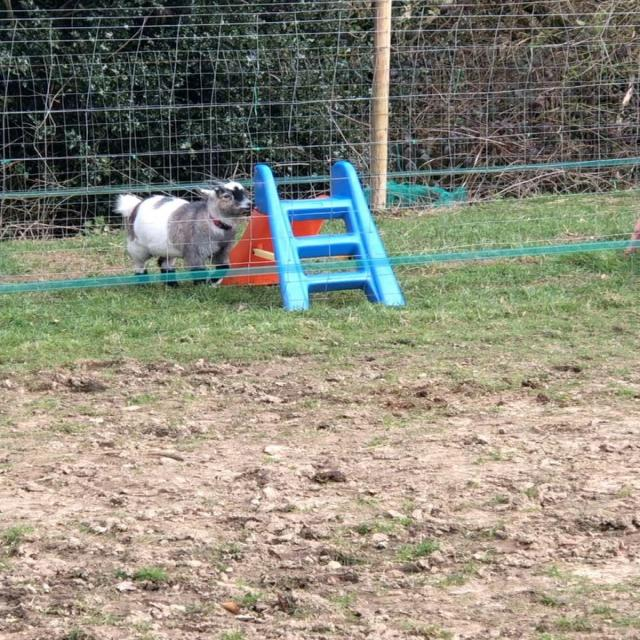goat: (100, 165, 262, 288)
